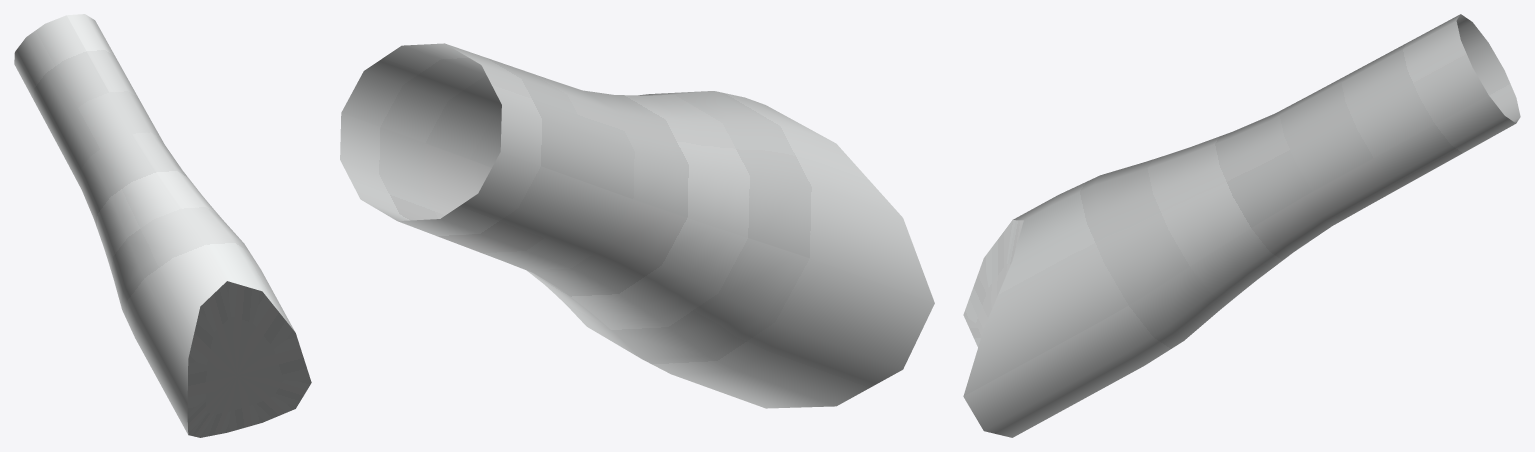
The model's file is luminairearm_caltrans8ftstraightdouble_c0_pedestal.obj.
The picture shows the model from 3 angles, left to right: view 1: azimuth 30°, elevation 25°; view 2: azimuth 150°, elevation 25°; view 3: azimuth 270°, elevation 25°; orthographic projection. The views are drawn at different scales.
Visible parts, largest first — view 1: luminairearm_caltrans8ftstraightdouble_c0_pedestal; view 2: luminairearm_caltrans8ftstraightdouble_c0_pedestal; view 3: luminairearm_caltrans8ftstraightdouble_c0_pedestal.
Part boxes in pixels (bbox=[...]): luminairearm_caltrans8ftstraightdouble_c0_pedestal: bbox=[14, 14, 311, 437]; luminairearm_caltrans8ftstraightdouble_c0_pedestal: bbox=[340, 43, 934, 408]; luminairearm_caltrans8ftstraightdouble_c0_pedestal: bbox=[963, 14, 1520, 437].
Size of the model in its own units: 0.3375 by 0.7792 by 0.9732.
